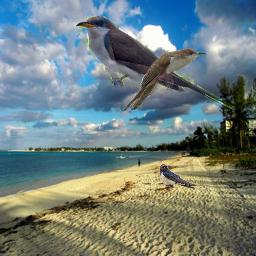Cuckoo: (74, 16, 232, 111), (123, 48, 206, 110)
Swallow: (159, 163, 208, 192)
